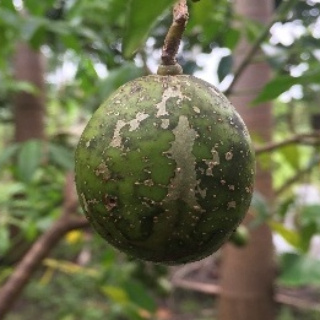coc: (75, 74, 255, 264)
